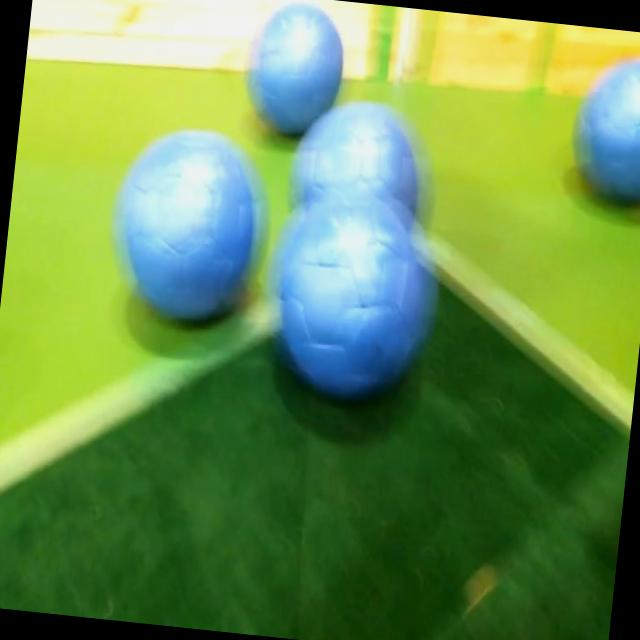blue_ball: (270, 187, 436, 401), (109, 125, 270, 331), (290, 100, 428, 232), (240, 0, 348, 139), (566, 55, 640, 210)
